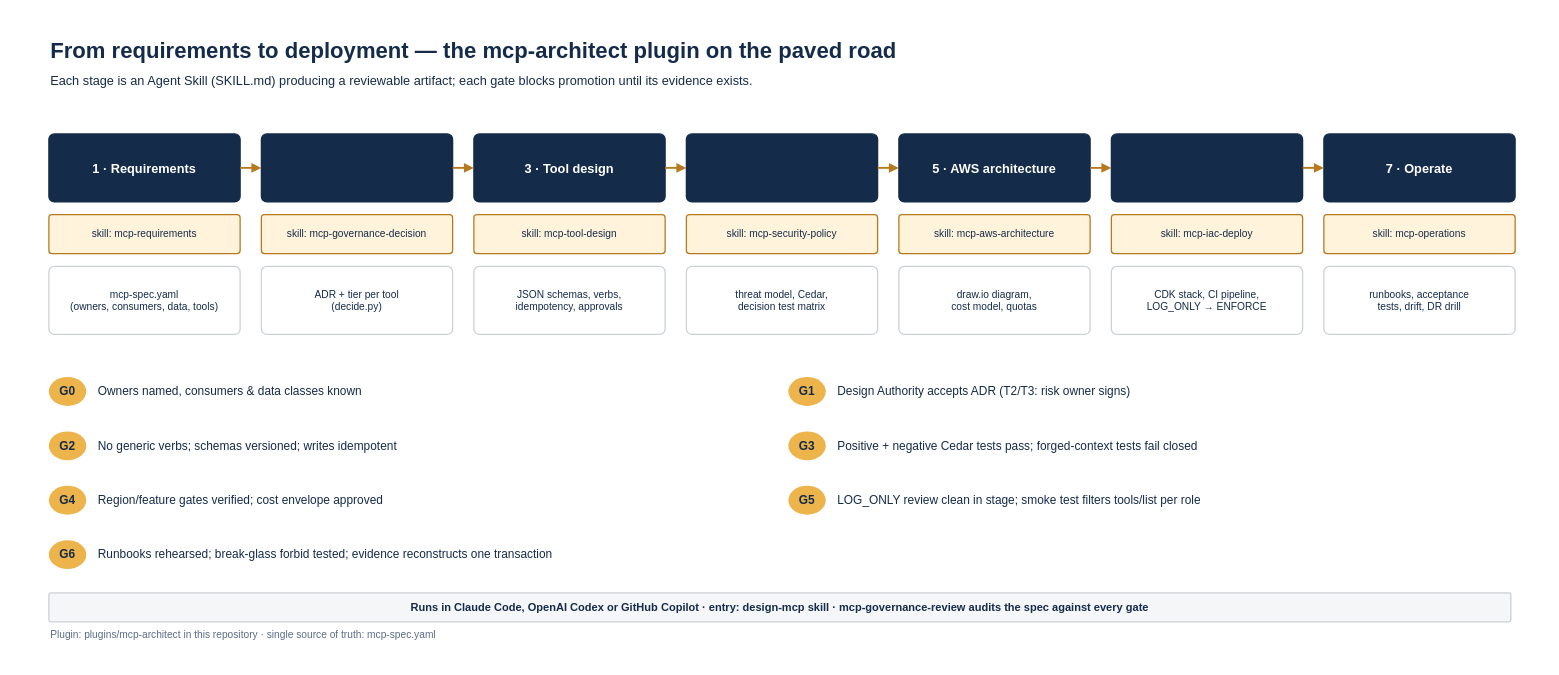
The diagram is 1559 pixels wide and 675 high, and some of its shapes have lost their labels. The box of each missing label's shape, as (x1, y1, x2, y2) in pixels:
2 · Governance decision: (260, 133, 453, 202)
4 · Security & policy: (685, 133, 878, 202)
6 · Build & deploy: (1110, 133, 1303, 202)
